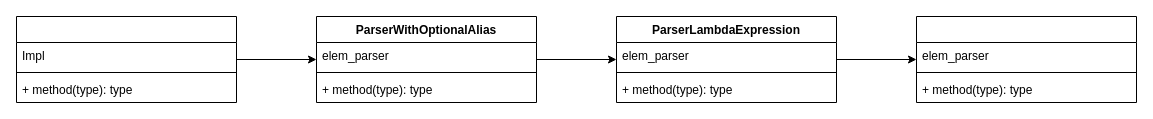
Some shapes in this 1153 by 119 pixel diagram are drawn without their labels. Here are the shapes that lost their labels. From the top down, the box of each, then its label:
(16, 16, 236, 102): ParserExpressionWithOptionalAlias
(916, 16, 1136, 102): ParserTernaryOperatorExpression
